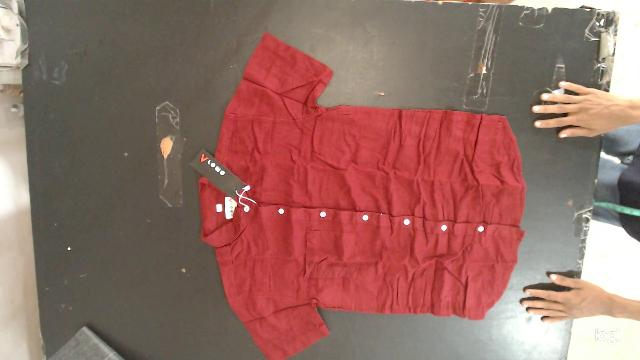new-garment: (195, 33, 526, 358)
